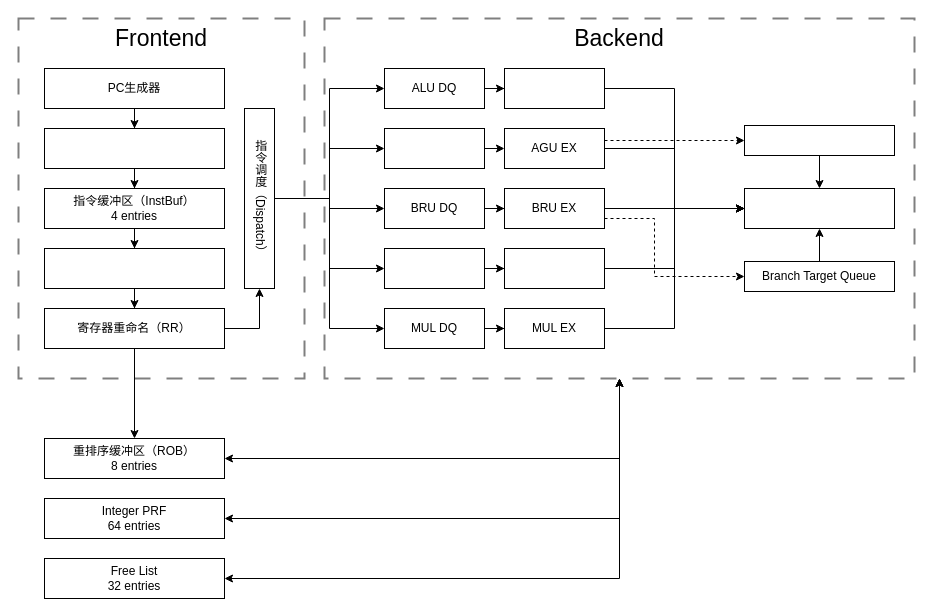
Image size: 932x616. Some labels were removed from this diagram. Each missing label, with the centre of its shape:
"AGU DQ" belongs at point (434, 148).
"ALU EX" belongs at point (554, 88).
"Committer" belongs at point (819, 208).
"CTL DQ" belongs at point (434, 268).
"CTL EX" belongs at point (554, 268).
"Load Store Queue" belongs at point (819, 140).
"取指单元（IFU）" belongs at point (134, 148).
"解码器（IDU）" belongs at point (134, 268).
